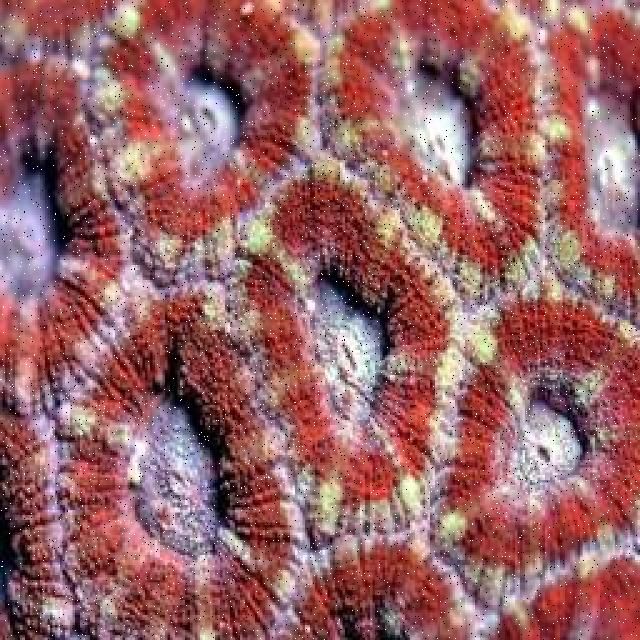reefs: (0, 0, 638, 638)
